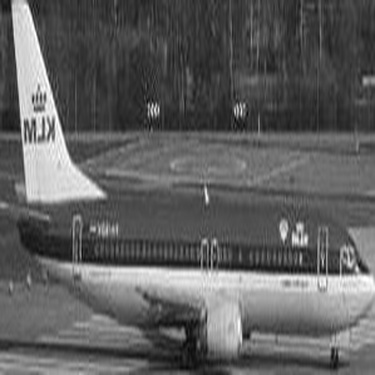airplane: (7, 1, 368, 367)
